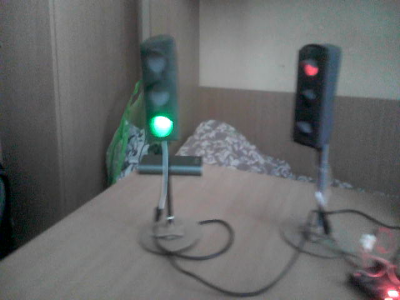trafficlight_green: (140, 39, 179, 141)
trafficlight_red: (293, 49, 329, 142)
